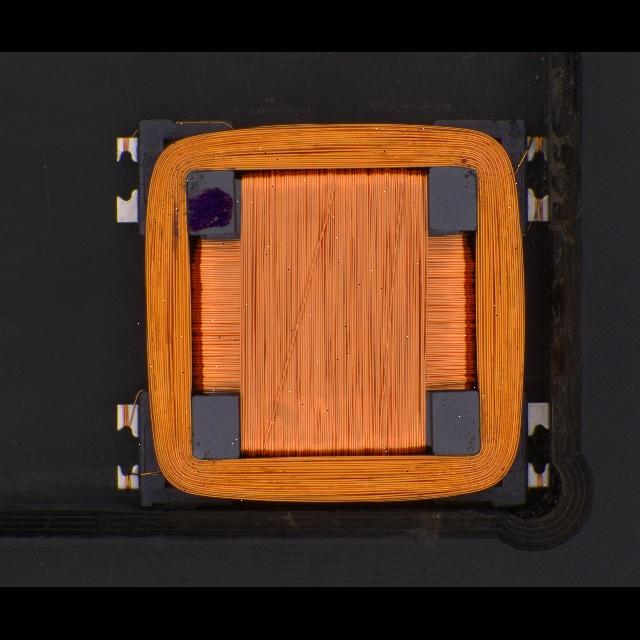Winding_Z: (132, 119, 529, 506)
